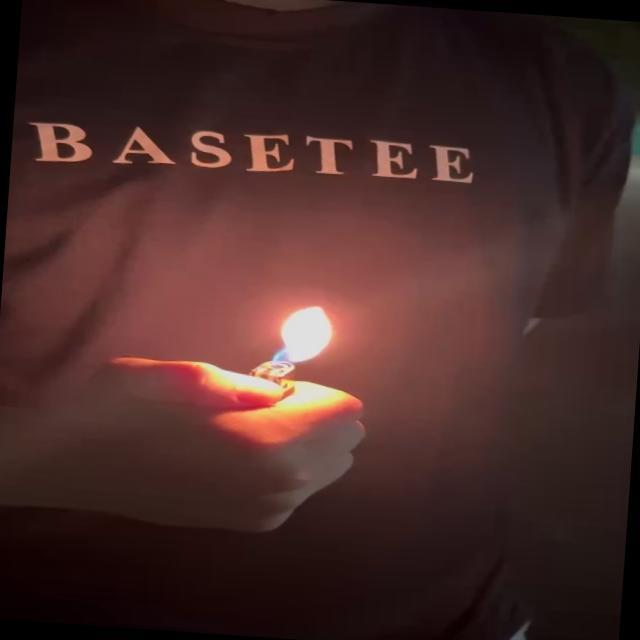Fire: (277, 301, 340, 369)
